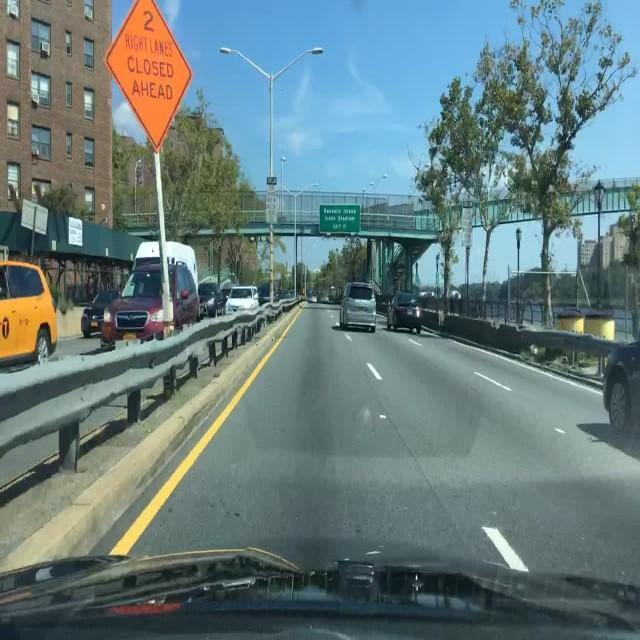normal: (109, 239, 202, 344), (0, 255, 57, 366), (336, 279, 378, 329), (78, 288, 118, 336), (223, 284, 261, 317)
